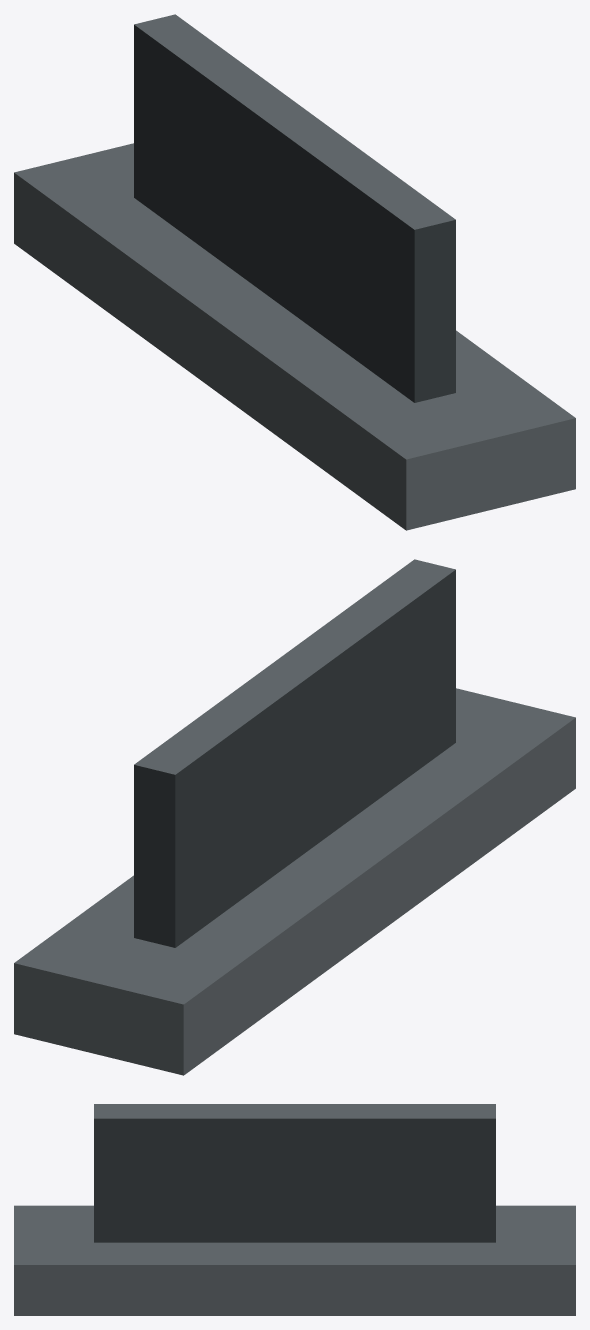
The model's file is SM_HangingLight.fbx.
3 renders of one model, top to bottom at view 1: azimuth 30°, elevation 25°; view 2: azimuth 150°, elevation 25°; view 3: azimuth 270°, elevation 25°, orthographic. The views are drawn at different scales.
Parts seen in each view (by area): view 1: SM_HangingLight_Box; view 2: SM_HangingLight_Box; view 3: SM_HangingLight_Box.
Boxes of the visible parts, x1,y1,x2,y2 form: SM_HangingLight_Box: (14, 14, 575, 530); SM_HangingLight_Box: (14, 559, 575, 1075); SM_HangingLight_Box: (14, 1104, 575, 1315).
Bounding box in the file's own units: 100 × 137 × 400.
